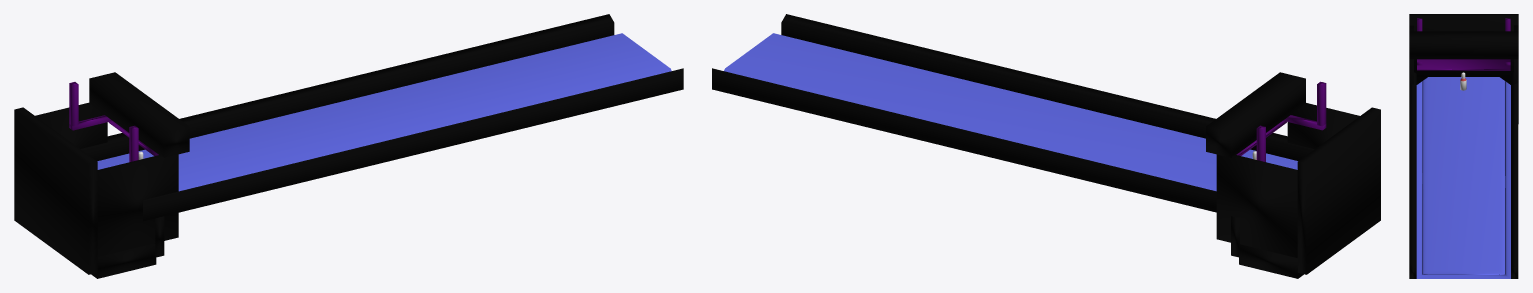
File: BowlingLane.fbx
3 views of the same model, side by side, from view 1: azimuth 30°, elevation 25°; view 2: azimuth 150°, elevation 25°; view 3: azimuth 270°, elevation 25° (orthographic). The views are drawn at different scales.
Visible parts, largest first — view 1: Cube.024, Cube.020, Cube.021, Cube.022, Cube.023; view 2: Cube.020, Cube.024, Cube.022, Cube.021, Cube.023; view 3: Cube.024, Cube.020, Cube.021, Cube.022, Cube.023, Cylinder.
Part boxes in pixels (bbox=[...]): Cube.024: bbox=[97, 33, 671, 191]; Cube.020: bbox=[14, 72, 189, 278]; Cube.021: bbox=[143, 68, 683, 221]; Cube.022: bbox=[80, 14, 614, 161]; Cube.023: bbox=[69, 82, 158, 162]; Cube.020: bbox=[1206, 72, 1380, 278]; Cube.024: bbox=[724, 33, 1297, 191]; Cube.022: bbox=[712, 68, 1216, 212]; Cube.021: bbox=[781, 14, 1314, 160]; Cube.023: bbox=[1236, 81, 1326, 161]; Cube.024: bbox=[1416, 77, 1510, 278]; Cube.020: bbox=[1409, 14, 1518, 123]; Cube.021: bbox=[1409, 70, 1416, 278]; Cube.022: bbox=[1511, 72, 1518, 278]; Cube.023: bbox=[1417, 18, 1510, 70]; Cylinder: bbox=[1460, 72, 1466, 90].
Bounding box in the file's own units: 21.32 × 4.64 × 4.61.
